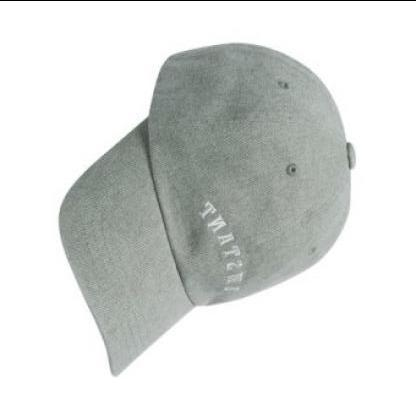cap: (56, 37, 365, 388)
